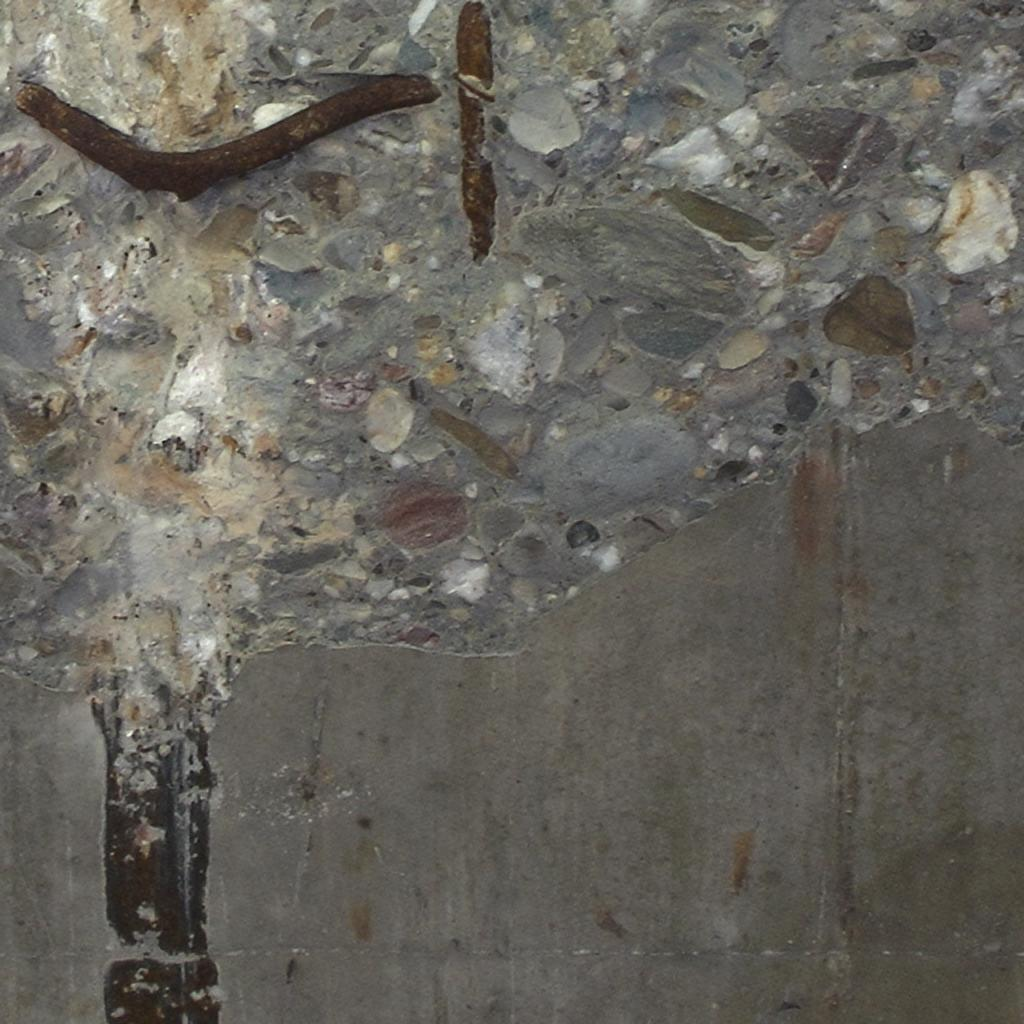exposed_rebar: (16, 76, 440, 200), (456, 2, 496, 259)
spalling: (0, 0, 1024, 1024)
